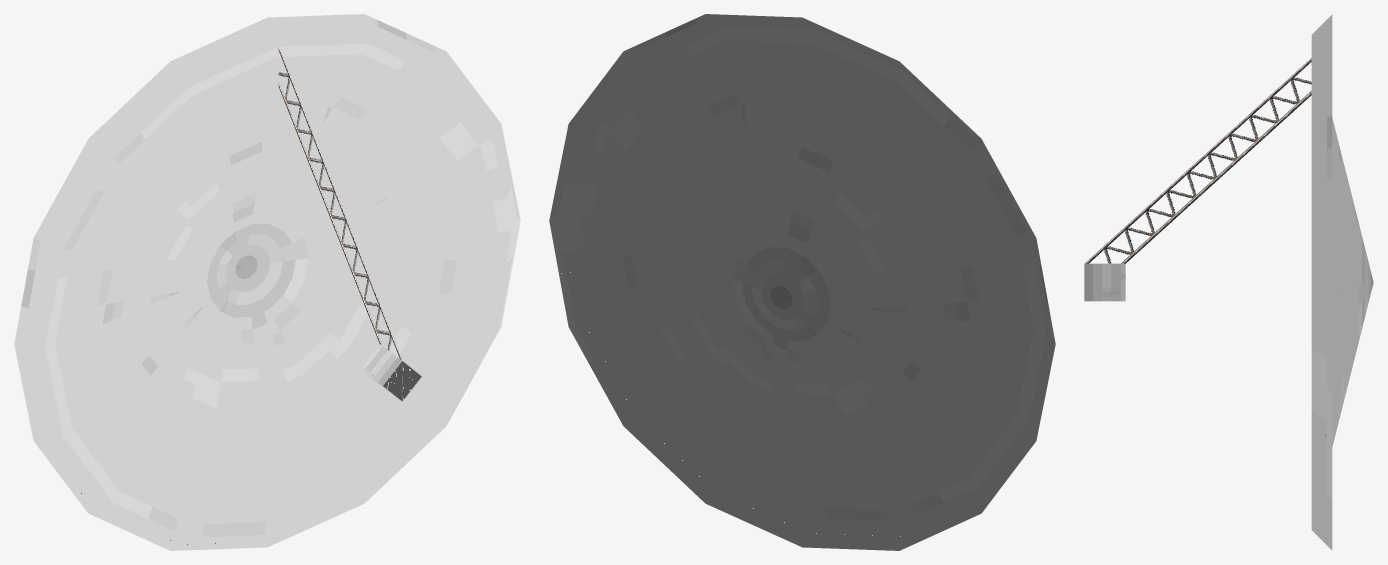
The model's file is PsatdishZ.obj.
3 views of the same model, side by side, from view 1: azimuth 30°, elevation 25°; view 2: azimuth 150°, elevation 25°; view 3: azimuth 270°, elevation 25° (orthographic). The views are drawn at different scales.
Size of the model in its own units: 4550 by 4550 by 2450.
Materials: 2 (2 with a texture image).
